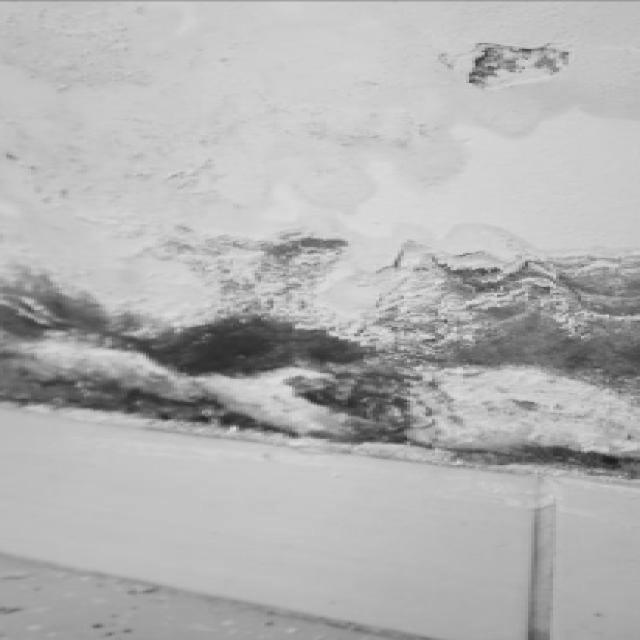stain marks: (0, 0, 640, 224), (130, 233, 637, 376), (0, 224, 130, 411), (282, 373, 422, 443), (429, 433, 637, 468)
